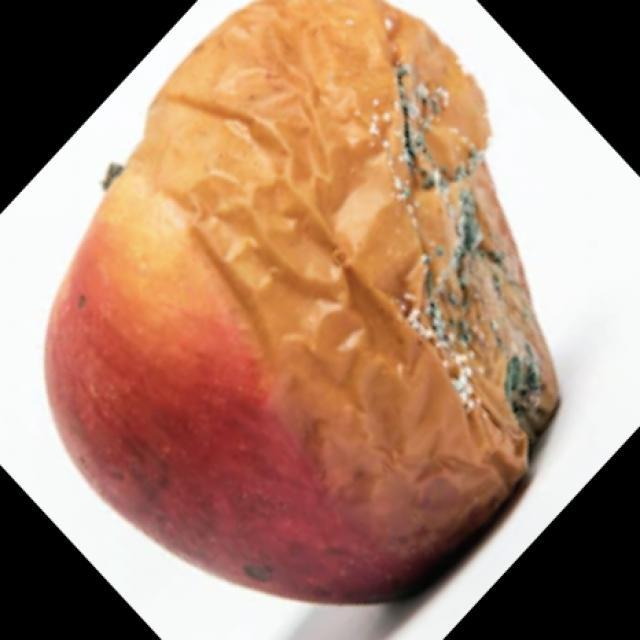Rotten: (81, 15, 562, 590)
